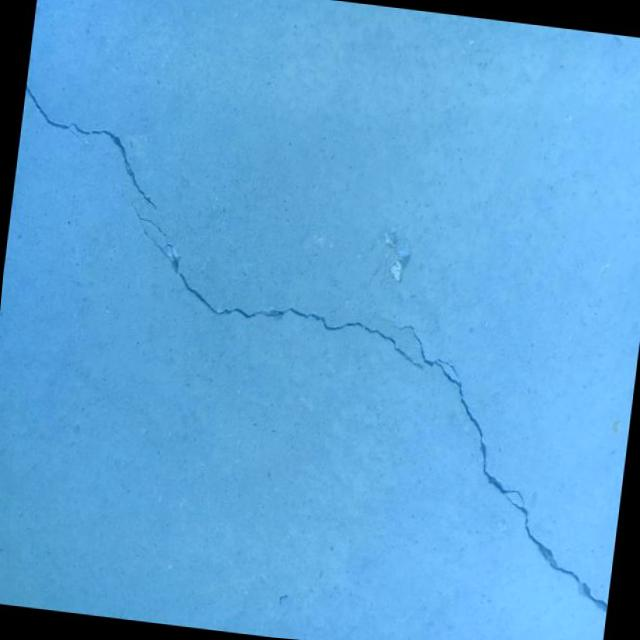crack: (366, 321, 640, 614), (114, 198, 442, 370), (11, 83, 182, 226)
